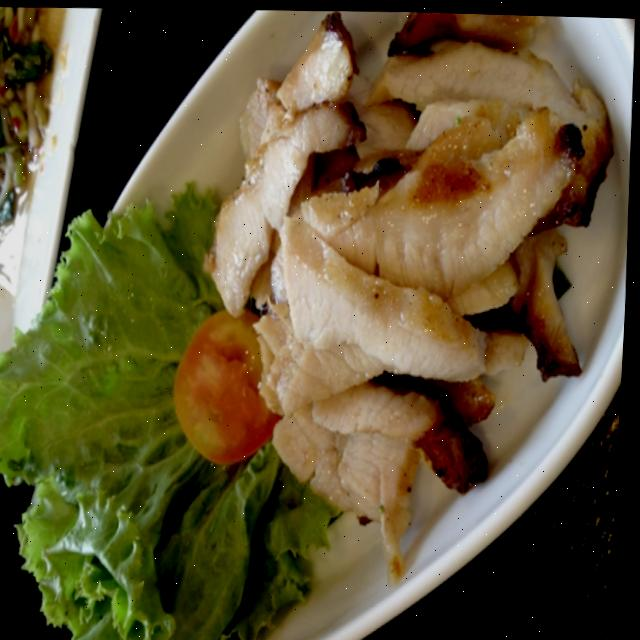猪肉菜式: (154, 13, 607, 589)
